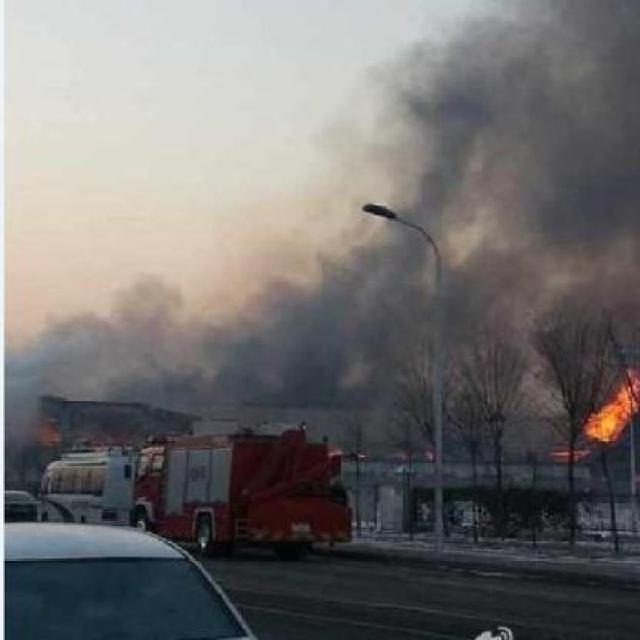Fire: (589, 364, 639, 448), (326, 432, 346, 466), (548, 445, 578, 465)
Smoke: (268, 0, 640, 375)
